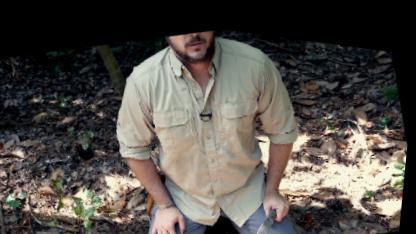knife: (244, 173, 306, 233)
